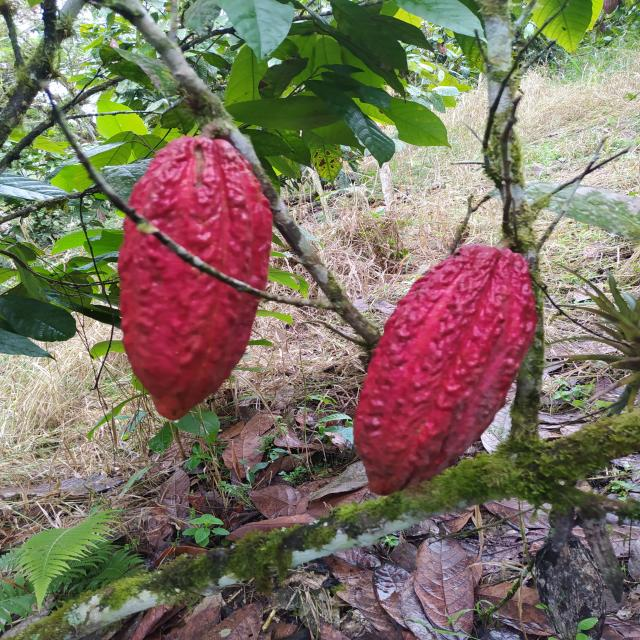Sana: (357, 245, 538, 497), (117, 136, 271, 420)
